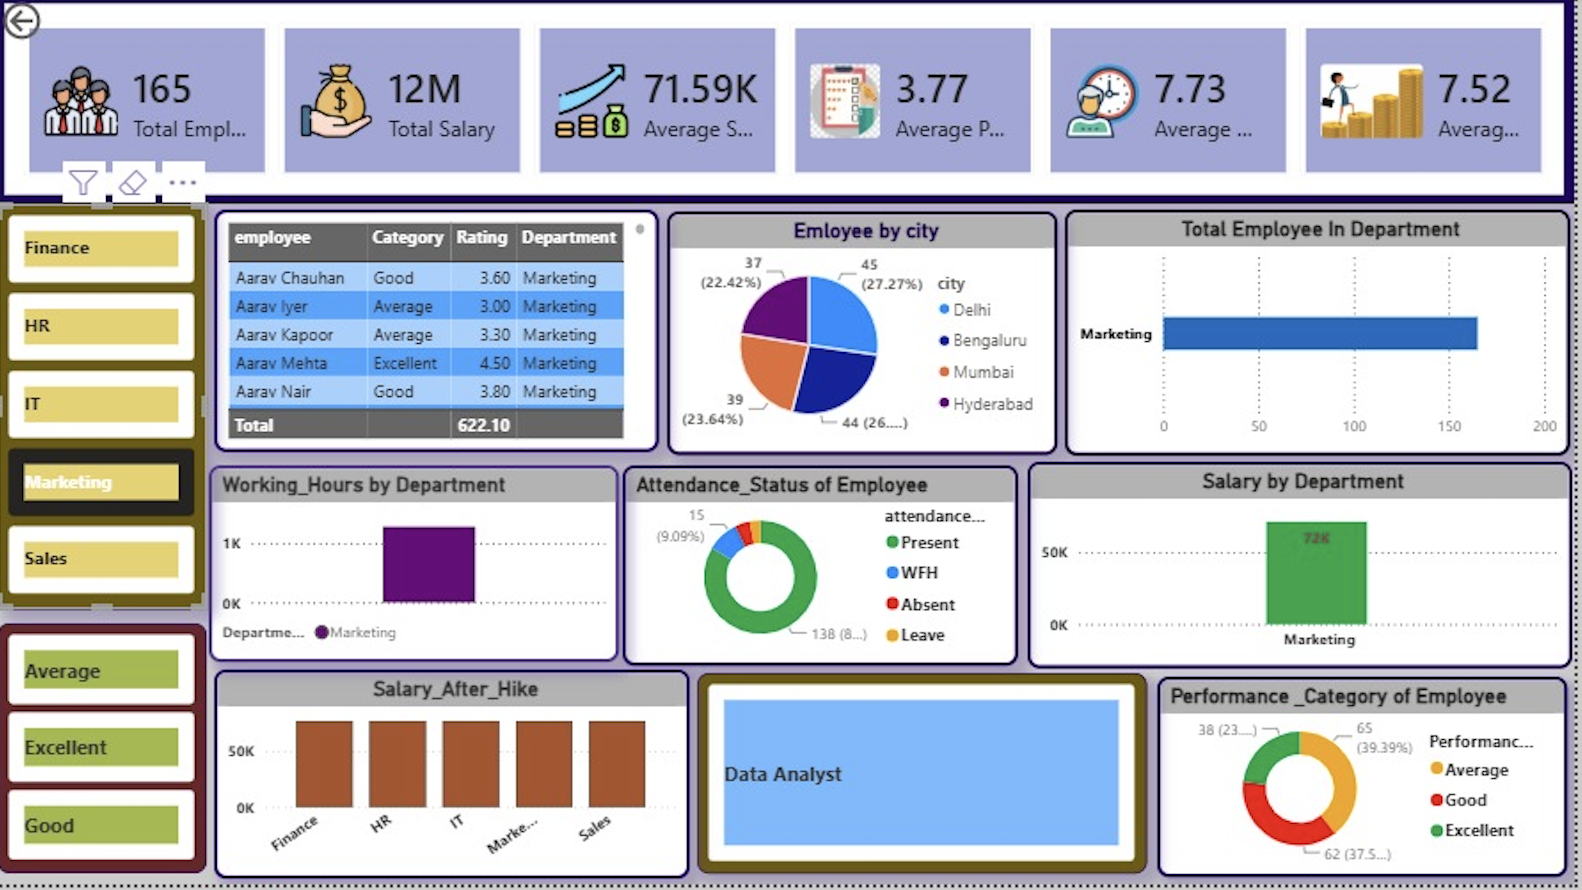

The dashboard page shown, as its layout file describes it:
{"tool":"powerbi","page":{"name":"Page 1","canvas":[1280,720],"ordinal":0},"visuals":[{"type":"cardVisual","fields":{"Data":["Count(employees.Employee_ID)","Sum(master_data.Monthly_Salary)","Avg(master_data.Monthly_Salary)","Avg(master_data.Performance_Rating)","Avg(master_data.Working_Hours)","Avg(master_data.Salary_Hike_%)"]},"box":[0,0,1280,168],"z":0},{"type":"clusteredBarChart","title":"Total Employee In Department","fields":{"Category":["master_data.Department_Name"],"Y":["CountNonNull(master_data.Employee_ID)"]},"box":[865.1,173,409.9,199.9],"z":1000},{"type":"pieChart","title":"Emloyee by city","fields":{"Category":["master_data.city"],"Y":["CountNonNull(master_data.Employee_ID)"]},"box":[542.6,174.7,317.5,198.2],"z":2000},{"type":"clusteredColumnChart","title":"Salary by Department","fields":{"Category":["master_data.Department_Name"],"Y":["Avg(master_data.Monthly_Salary)"]},"box":[834.9,378,441.8,168],"z":3000},{"type":"donutChart","title":"Performance _Category of Employee","fields":{"Category":["master_data.Performance _Category"],"Y":["CountNonNull(master_data.Employee_ID)"]},"box":[940.7,551,332.6,162.9],"z":4000},{"type":"donutChart","title":"Attendance_Status of Employee","fields":{"Y":["CountNonNull(master_data.Employee_ID)"],"Category":["master_data.attendance_Status"]},"box":[507.3,379.6,320.8,162.9],"z":5000},{"type":"advancedSlicerVisual","fields":{"Values":["master_data.Department_Name"]},"box":[0,168,169.7,329.2],"z":6000},{"type":"advancedSlicerVisual","fields":{"Values":["master_data.Role_name"]},"box":[567.8,549.3,364.5,162.9],"z":7000},{"type":"advancedSlicerVisual","fields":{"Values":["master_data.Performance _Category"]},"box":[0,509,169.7,203.3],"z":8000},{"type":"tableEx","fields":{"Values":["master_data.employee_name","master_data.Performance _Category","Sum(master_data.Performance_Rating)","master_data.Department_Name"]},"box":[176.4,173,361.2,196.5],"z":9000},{"type":"actionButton","box":[0,0,100,40],"z":10000},{"type":"clusteredColumnChart","title":"Salary_After_Hike","fields":{"Category":["departments.Department_Name"],"Y":["Avg(master_data.Salary_After_Hike)"]},"box":[176.4,545.9,386.4,169.7],"z":11000},{"type":"clusteredColumnChart","title":" Working_Hours by Department","fields":{"Series":["master_data.Department_Name"],"Y":["Sum(master_data.Working_Hours)"]},"box":[171.3,379.6,332.6,159.6],"z":12000}]}

Visuals, with their boxes in screenshot pixels (x1, y1, x2, y2), scaled from the page's 1280x720 canvas onto the 1582x890 screenshot:
cardVisual - Count(employees.Employee_ID) x Sum(master_data.Monthly_Salary): bbox=[0, 0, 1581, 208]
"Total Employee In Department" clusteredBarChart: bbox=[1069, 214, 1576, 461]
"Emloyee by city" pieChart: bbox=[671, 216, 1063, 461]
"Salary by Department" clusteredColumnChart: bbox=[1032, 467, 1578, 675]
"Performance _Category of Employee" donutChart: bbox=[1163, 681, 1574, 882]
"Attendance_Status of Employee" donutChart: bbox=[627, 469, 1023, 671]
advancedSlicerVisual - master_data.Department_Name: bbox=[0, 208, 210, 615]
advancedSlicerVisual - master_data.Role_name: bbox=[702, 679, 1152, 880]
advancedSlicerVisual - master_data.Performance _Category: bbox=[0, 629, 210, 880]
tableEx - master_data.employee_name x master_data.Performance _Category: bbox=[218, 214, 664, 457]
actionButton: bbox=[0, 0, 124, 49]
"Salary_After_Hike" clusteredColumnChart: bbox=[218, 675, 696, 885]
" Working_Hours by Department" clusteredColumnChart: bbox=[212, 469, 623, 667]
